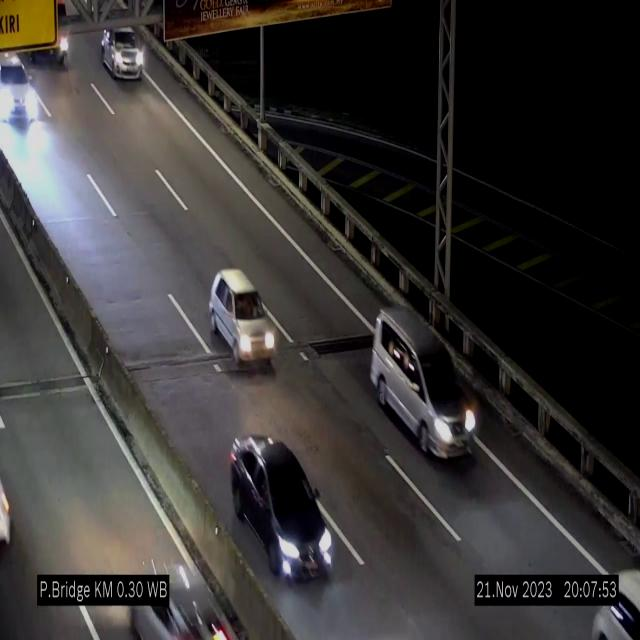Car: (371, 304, 475, 458), (231, 435, 333, 578), (209, 269, 276, 369), (100, 27, 144, 80)
